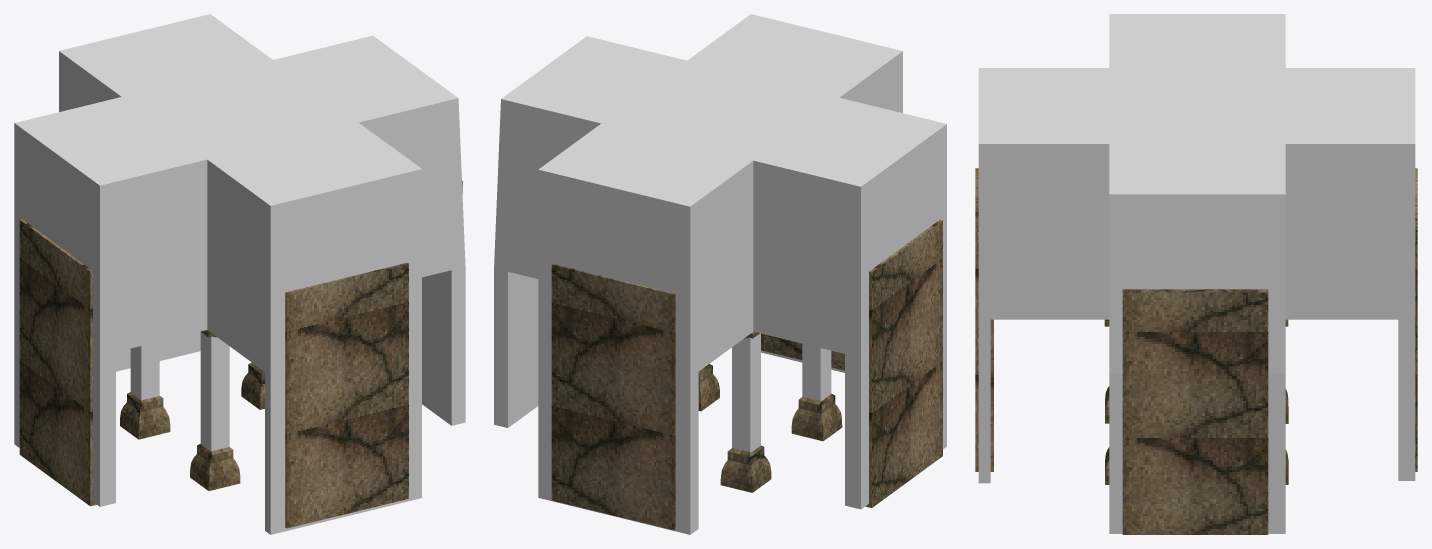
Rendered from Sentral.gltf.
3 renders of one model, left to right at view 1: azimuth 30°, elevation 25°; view 2: azimuth 150°, elevation 25°; view 3: azimuth 270°, elevation 25°, orthographic. The views are drawn at different scales.
Parts seen in each view (by area): view 1: COL, Pedestal, COL.004, COL.003; view 2: COL, Pedestal, COL.003, COL.004; view 3: COL, Pedestal.
Part boxes in pixels (x1,y1,x2,y2): COL: [14, 14, 465, 534]; Pedestal: [19, 181, 462, 528]; COL.004: [200, 332, 229, 451]; COL.003: [130, 341, 159, 400]; COL: [494, 14, 946, 534]; Pedestal: [551, 219, 942, 530]; COL.003: [732, 333, 760, 452]; COL.004: [802, 343, 831, 400]; COL: [978, 14, 1415, 533]; Pedestal: [975, 168, 1417, 534].
Size of the model in its own units: 47.52 by 40.27 by 47.44.
1 material, 1 textured.
